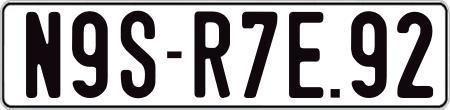2: (396, 12, 435, 99)
7: (241, 12, 280, 99)
9: (348, 10, 389, 97), (69, 11, 105, 101)
E: (288, 10, 324, 98)
N: (25, 10, 62, 99)
R: (195, 9, 230, 96)
S: (119, 10, 158, 101)
